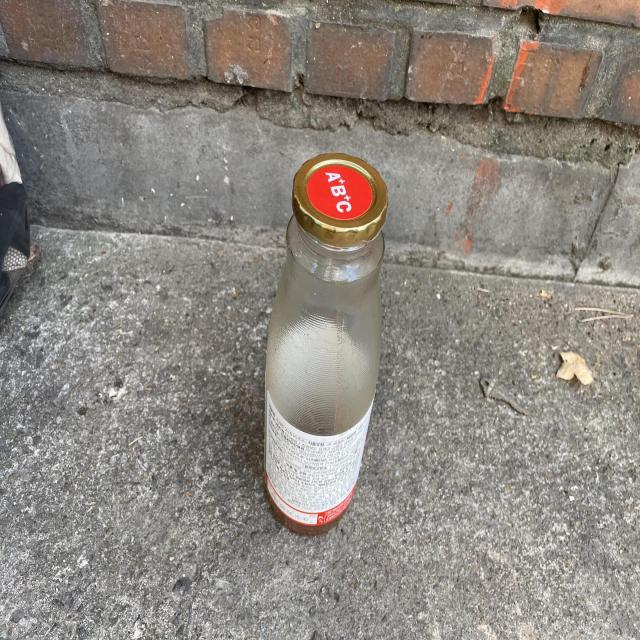glass: (265, 153, 388, 534)
